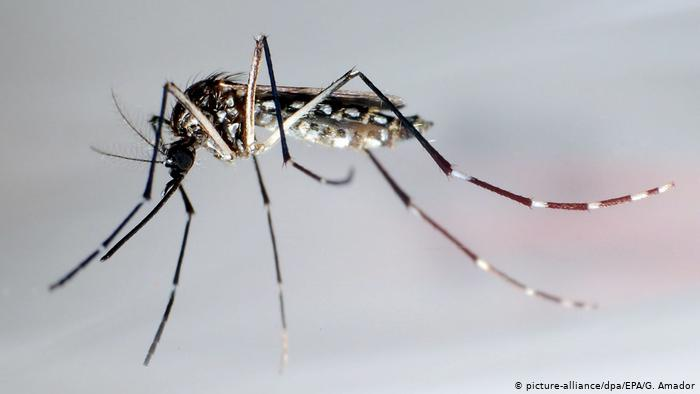mosquito: (48, 25, 675, 368)
